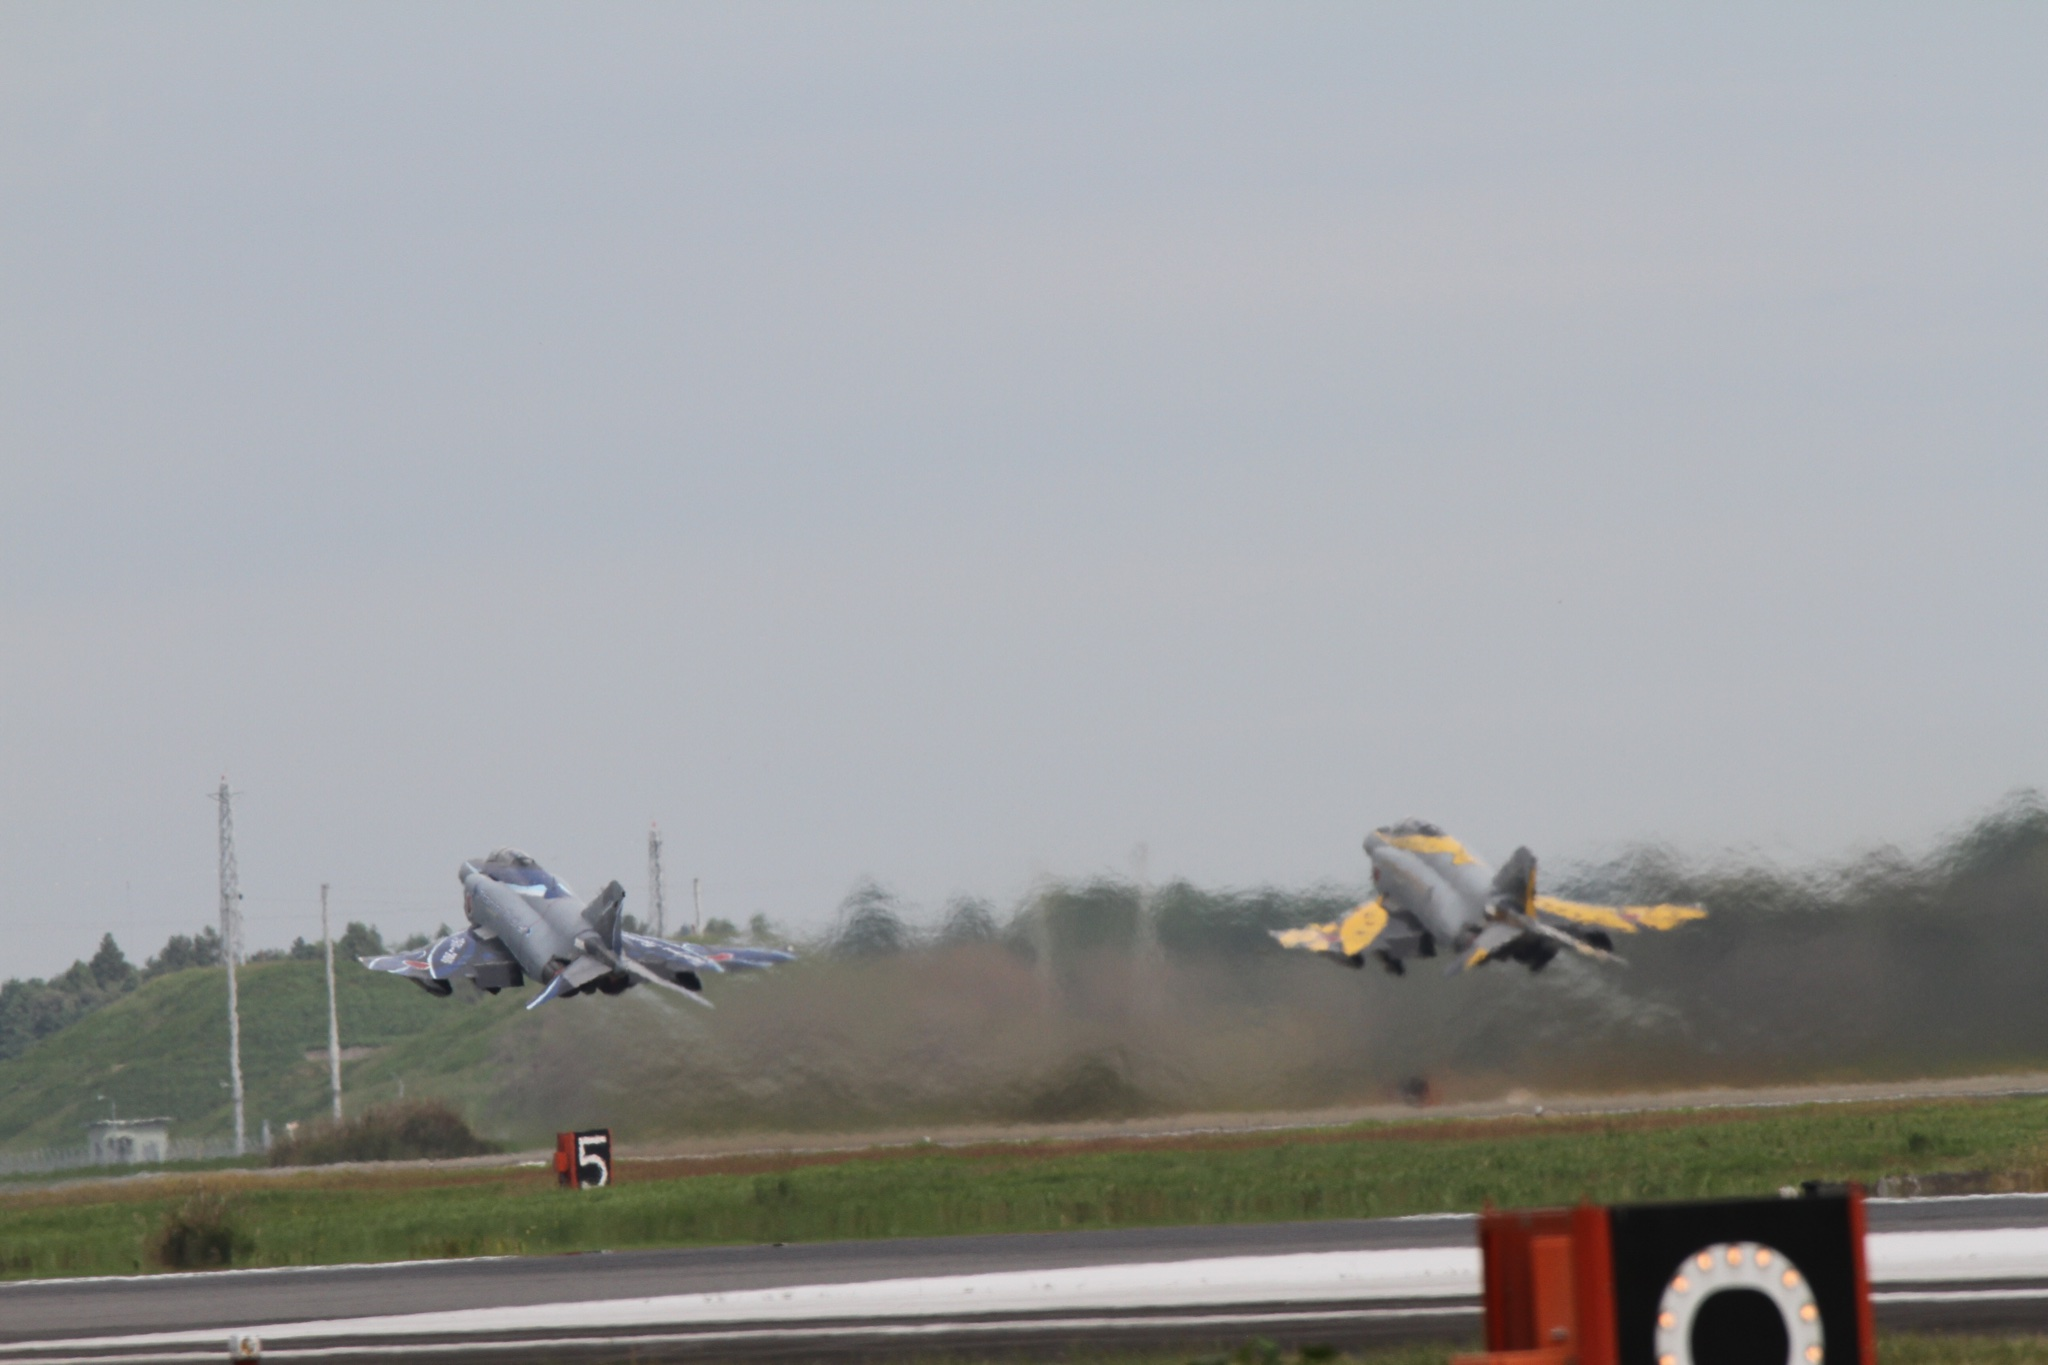F4: (1265, 817, 1711, 983), (356, 846, 799, 1012)
